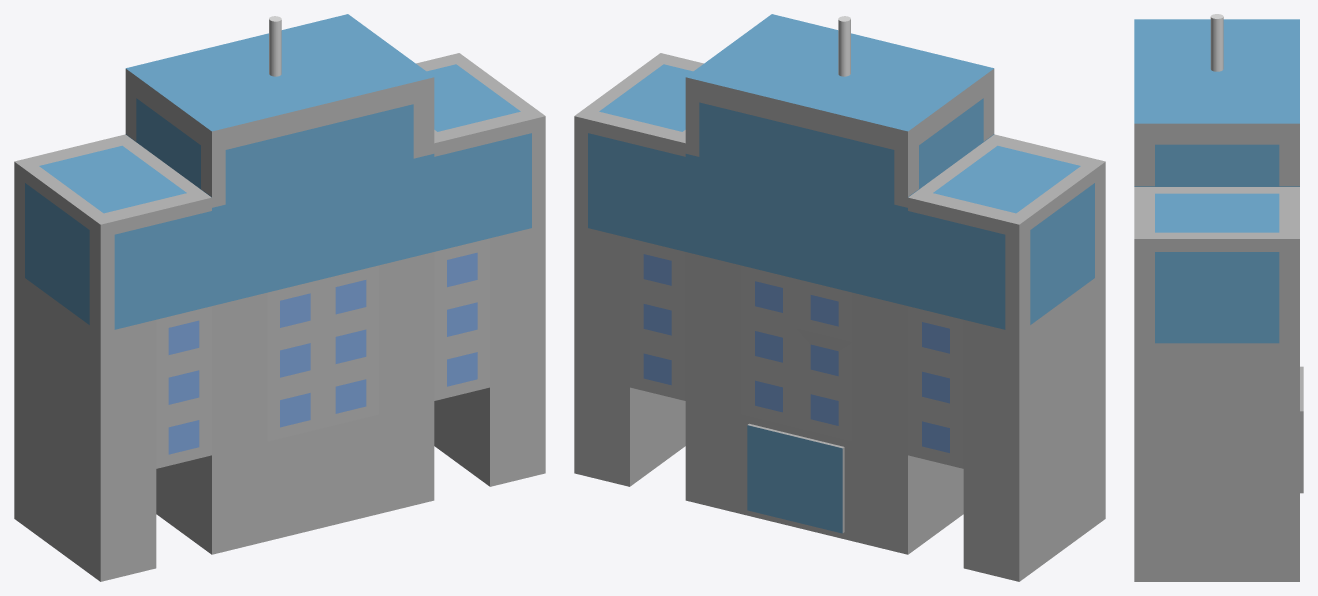
Rendered from library.fbx.
3 views of the same model, side by side, from view 1: azimuth 30°, elevation 25°; view 2: azimuth 150°, elevation 25°; view 3: azimuth 270°, elevation 25° (orthographic). The views are drawn at different scales.
Parts seen in each view (by area): view 1: Cube, Cylinder; view 2: Cube, Cylinder; view 3: Cube, Cylinder.
Part boxes in pixels (x1,y1,x2,y2): Cube: [14, 14, 545, 581]; Cylinder: [269, 16, 281, 76]; Cube: [574, 14, 1105, 581]; Cylinder: [838, 16, 850, 76]; Cube: [1134, 19, 1303, 581]; Cylinder: [1210, 14, 1223, 71].
Size of the model in its own units: 841 by 863 by 289.
